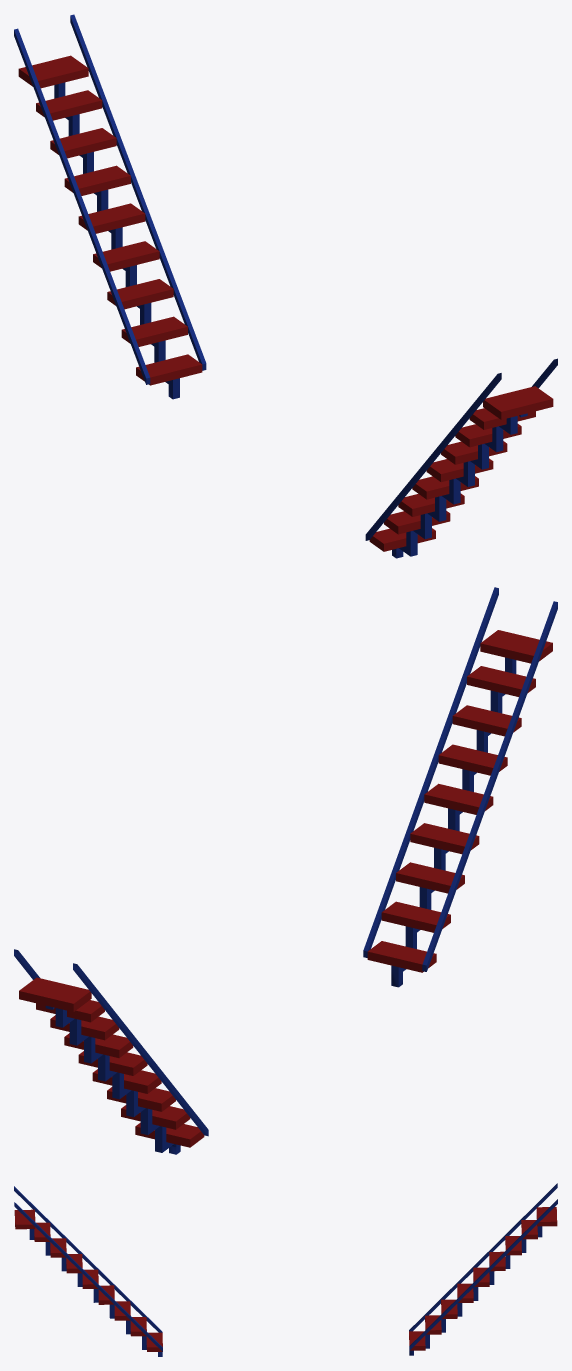
The model's file is SM_Stairs.fbx.
The picture shows the model from 3 angles, top to bottom: view 1: azimuth 30°, elevation 25°; view 2: azimuth 150°, elevation 25°; view 3: azimuth 270°, elevation 25°; orthographic projection. The views are drawn at different scales.
Visible parts, largest first — view 1: SM_Stairs; view 2: SM_Stairs; view 3: SM_Stairs.
Part boxes in pixels (x1=…): SM_Stairs: x1=14, y1=14, x2=557, y2=558; SM_Stairs: x1=14, y1=587, x2=557, y2=1154; SM_Stairs: x1=14, y1=1183, x2=557, y2=1356.
Bounding box in the file's own units: 6.14 × 23.38 × 71.09.
